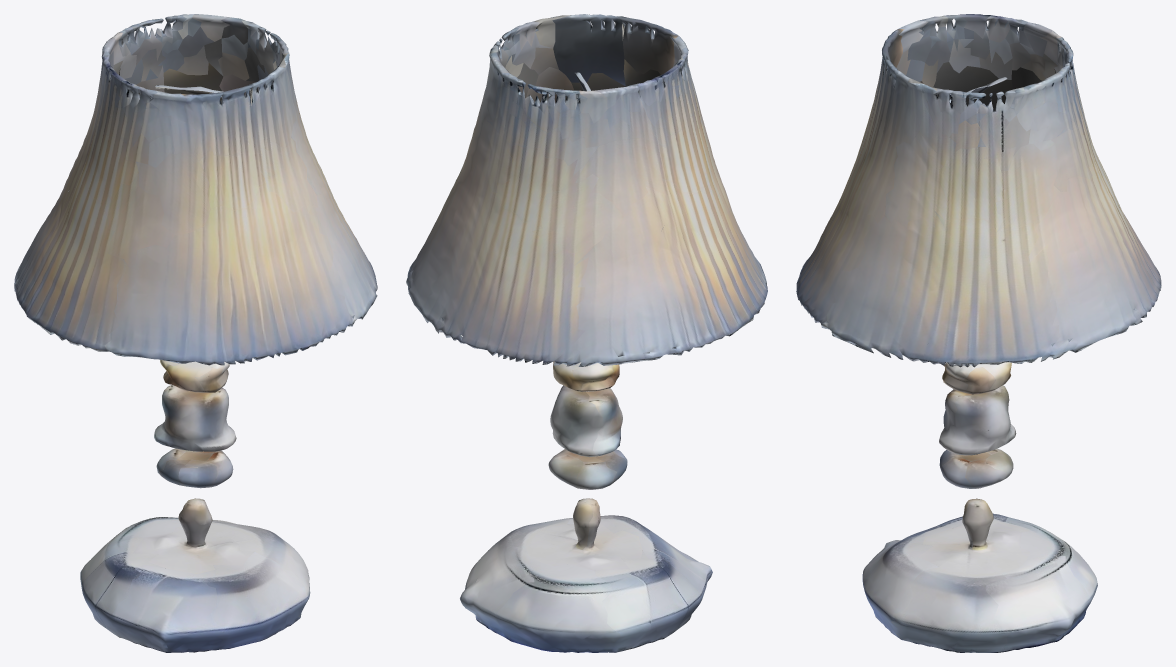
Rendered from lamp 4.glb.
3 views of the same model, side by side, from view 1: azimuth 30°, elevation 25°; view 2: azimuth 150°, elevation 25°; view 3: azimuth 270°, elevation 25° (orthographic).
Visible parts, largest first — view 1: Object_4; view 2: Object_4; view 3: Object_4.
Part boxes in pixels (x1,y1,x2,y2): Object_4: (14,14,377,652); Object_4: (406,14,767,652); Object_4: (796,14,1161,652).
Bounding box in the file's own units: 0.5972 × 1 × 0.596.
Materials: 1 (1 with a texture image).
